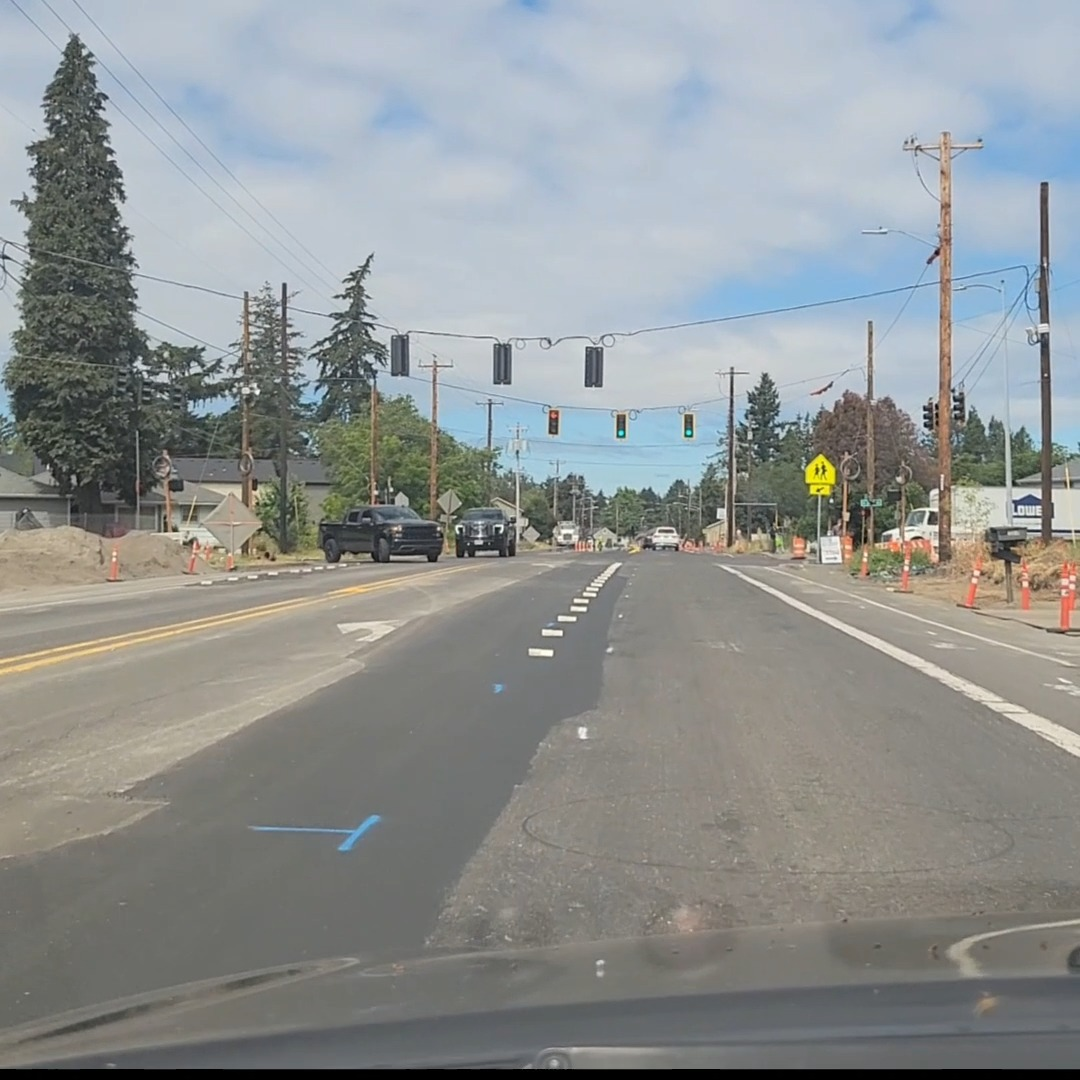car: (317, 505, 444, 564), (448, 506, 516, 556), (640, 526, 681, 550), (552, 520, 580, 549)
crosswalk-sign: (804, 453, 835, 494)
delineator: (957, 559, 981, 609), (898, 543, 913, 590), (1019, 563, 1032, 610), (184, 539, 201, 574), (106, 547, 121, 581), (859, 545, 870, 577), (225, 548, 235, 571), (889, 535, 900, 553)
